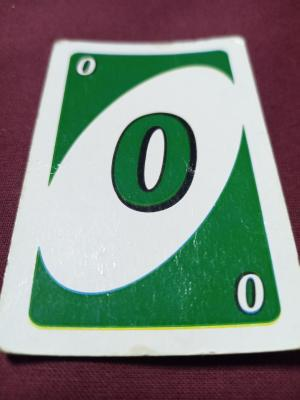num_0: (99, 109, 218, 255), (203, 269, 280, 320), (70, 50, 117, 105)
